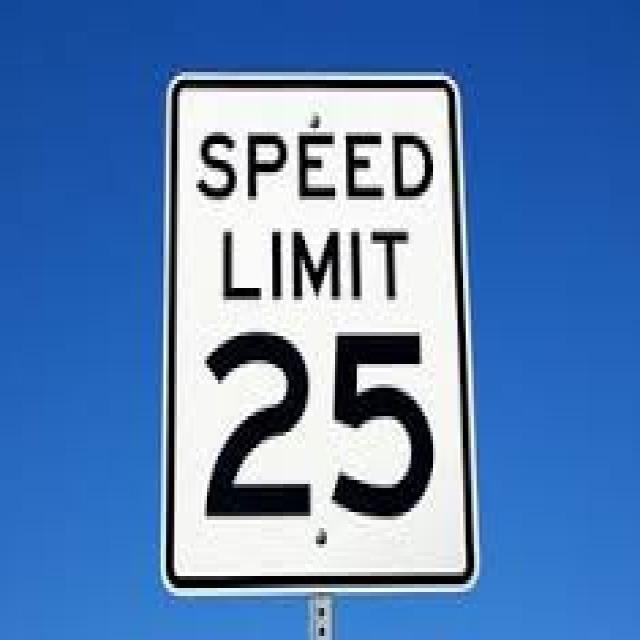regulatory: (155, 58, 492, 594)
